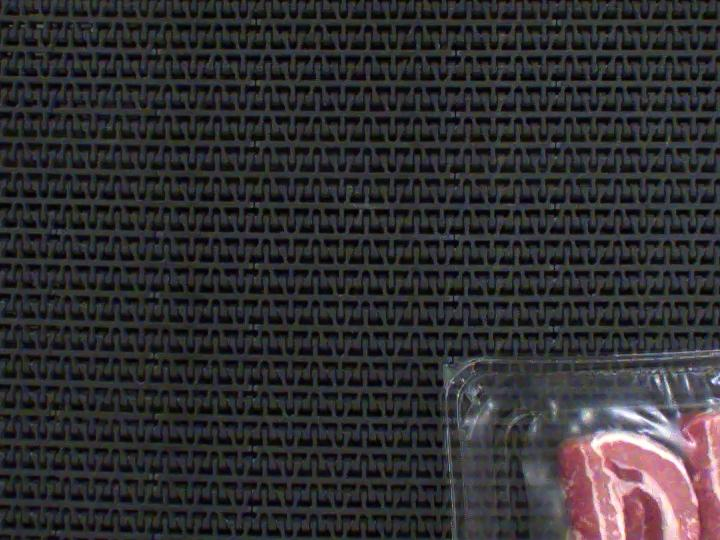unsealed: (473, 320, 720, 540)
